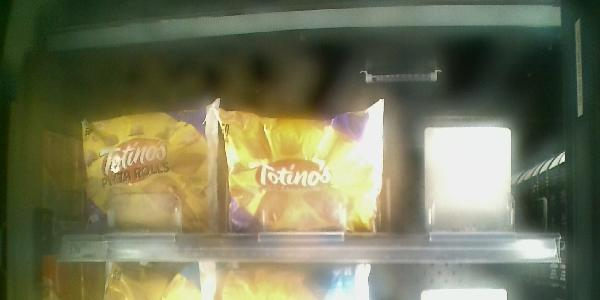icecream: (220, 101, 382, 237), (80, 99, 222, 236)
